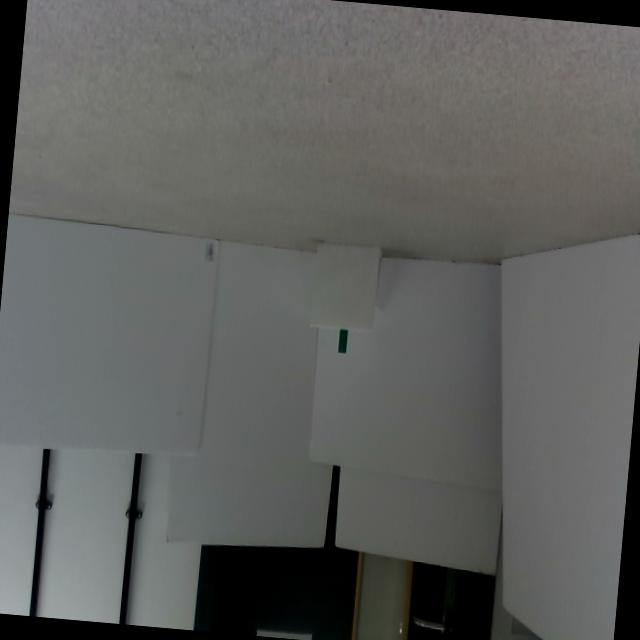green_cylinder: (337, 328, 348, 354)
